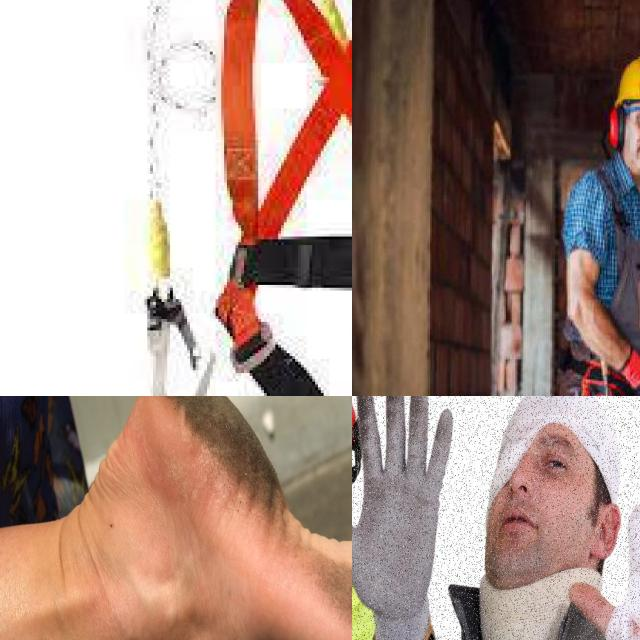Barefoots: (99, 396, 352, 640)
Ear-protection: (594, 102, 640, 170)
Harness: (219, 0, 352, 396)
glasses: (621, 101, 640, 135)
head_helmet: (606, 49, 640, 113)
head_nohelmet: (475, 396, 616, 604)
person: (421, 396, 640, 640), (538, 26, 640, 396)
